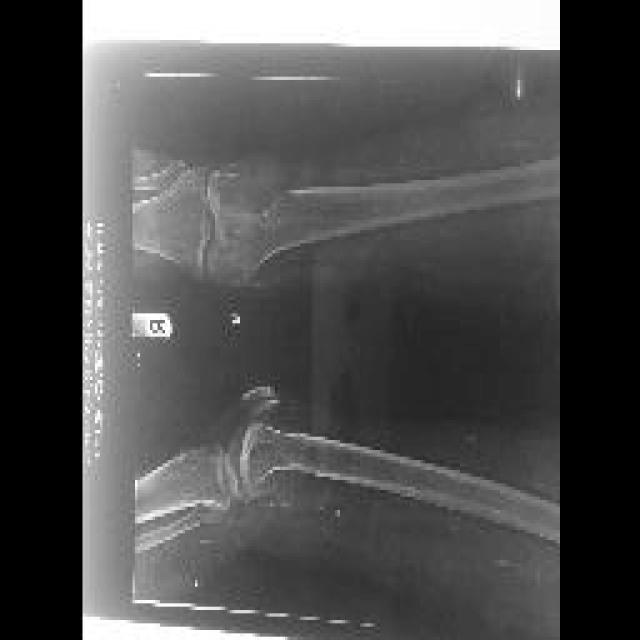bone-cancer: (211, 153, 305, 217), (239, 425, 301, 494)
